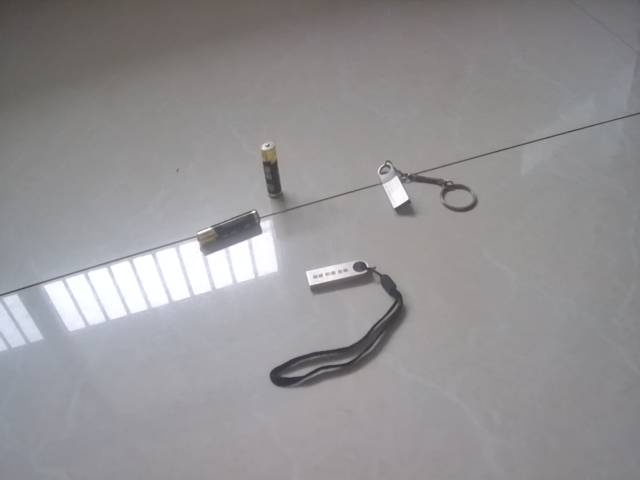U-disk: (267, 263, 410, 383), (369, 149, 483, 218)
battery: (194, 208, 269, 253), (254, 139, 292, 201)
